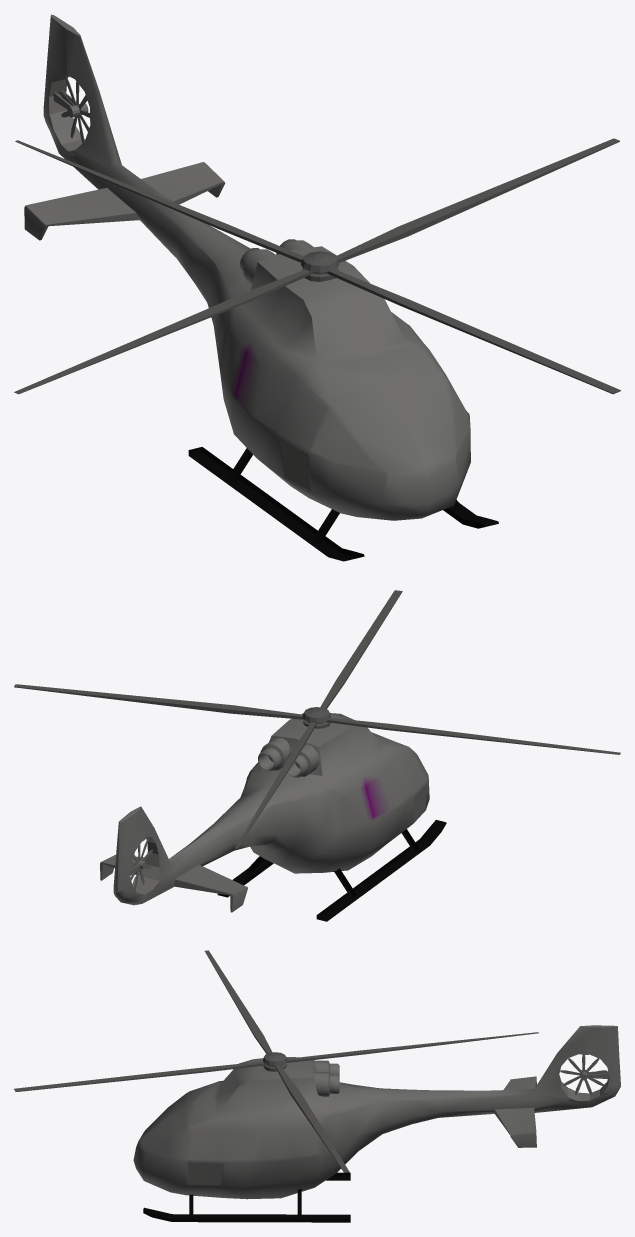
The model's file is Lowpoly_Helicopter-transformed-transformed.glb.
3 renders of one model, top to bottom at view 1: azimuth 30°, elevation 25°; view 2: azimuth 150°, elevation 25°; view 3: azimuth 270°, elevation 25°, orthographic. The views are drawn at different scales.
Visible parts, largest first — view 1: Copter, Propeller_2, Legs, Cylinder; view 2: Copter, Propeller_2, Legs, Cylinder; view 3: Copter, Propeller_2, Legs, Propeller, Cylinder.
Part boxes in pixels (left/top/right/bottom): Copter: left=24, top=14, right=470, bottom=520; Propeller_2: left=14, top=138, right=620, bottom=394; Legs: left=188, top=447, right=498, bottom=561; Cylinder: left=49, top=73, right=90, bottom=151; Copter: left=100, top=713, right=429, bottom=912; Propeller_2: left=14, top=590, right=620, bottom=848; Legs: left=217, top=820, right=446, bottom=921; Cylinder: left=132, top=837, right=159, bottom=894; Copter: left=133, top=1025, right=620, bottom=1199; Propeller_2: left=14, top=950, right=538, bottom=1172; Legs: left=143, top=1172, right=350, bottom=1222; Propeller: left=560, top=1054, right=606, bottom=1095; Cylinder: left=559, top=1075, right=609, bottom=1101.
Bounding box in the file's own units: 41.72 × 15.15 × 48.23.
